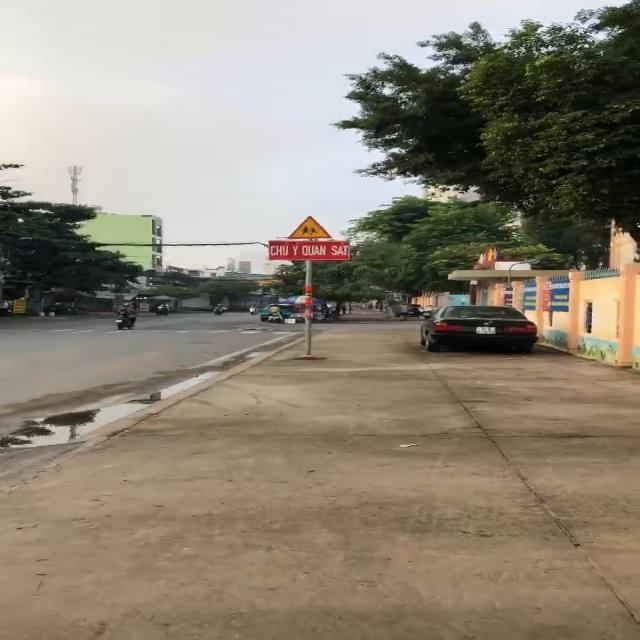Bien bao tre em: (283, 213, 338, 241)
